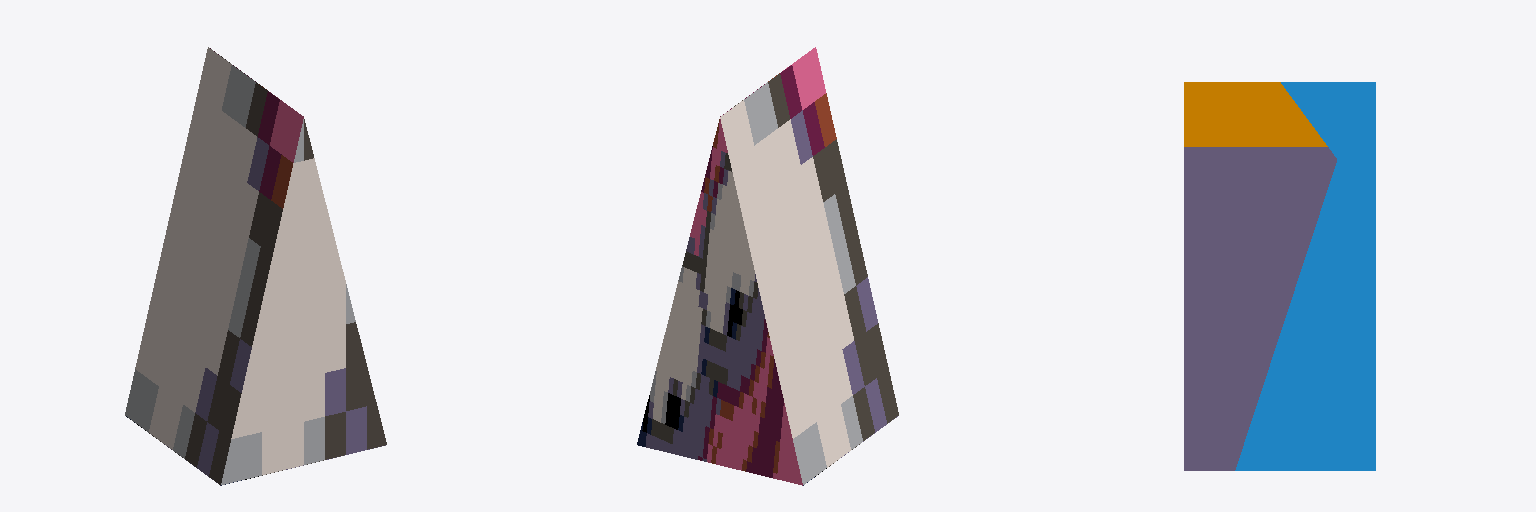
3 renders of one model, left to right at view 1: azimuth 30°, elevation 25°; view 2: azimuth 150°, elevation 25°; view 3: azimuth 270°, elevation 25°, orthographic.
Visible parts, largest first — view 1: test; view 2: test; view 3: test.
Boxes of the visible parts, <box> form: test: <box>125,47,386,485</box>; test: <box>637,47,898,485</box>; test: <box>1184,82,1375,470</box>.
Size of the model in its own units: 1 by 2 by 0.9998.
Materials: 1 (1 with a texture image).